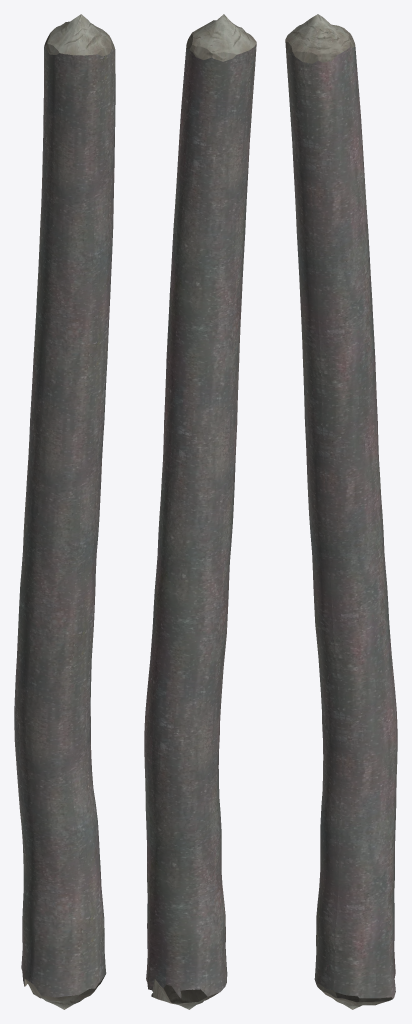
The picture shows the model from 3 angles, left to right: view 1: azimuth 90°, elevation 25°; view 2: azimuth 150°, elevation 25°; view 3: azimuth 330°, elevation 25°; orthographic projection.
Parts seen in each view (by area): view 1: SM_GF_Ash_Tree_01_tree_quarters_bottom_LOD0; view 2: SM_GF_Ash_Tree_01_tree_quarters_bottom_LOD0; view 3: SM_GF_Ash_Tree_01_tree_quarters_bottom_LOD0.
Part boxes in pixels (box(x1,y1,x2,y2)): SM_GF_Ash_Tree_01_tree_quarters_bottom_LOD0: box(14, 14, 115, 1009); SM_GF_Ash_Tree_01_tree_quarters_bottom_LOD0: box(144, 14, 256, 1009); SM_GF_Ash_Tree_01_tree_quarters_bottom_LOD0: box(285, 14, 397, 1009).
Bounding box in the file's own units: 0.7025 × 6.94 × 0.6313.
1 material, 1 textured.
